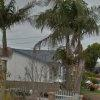Palm tree: (32, 4, 94, 57)
